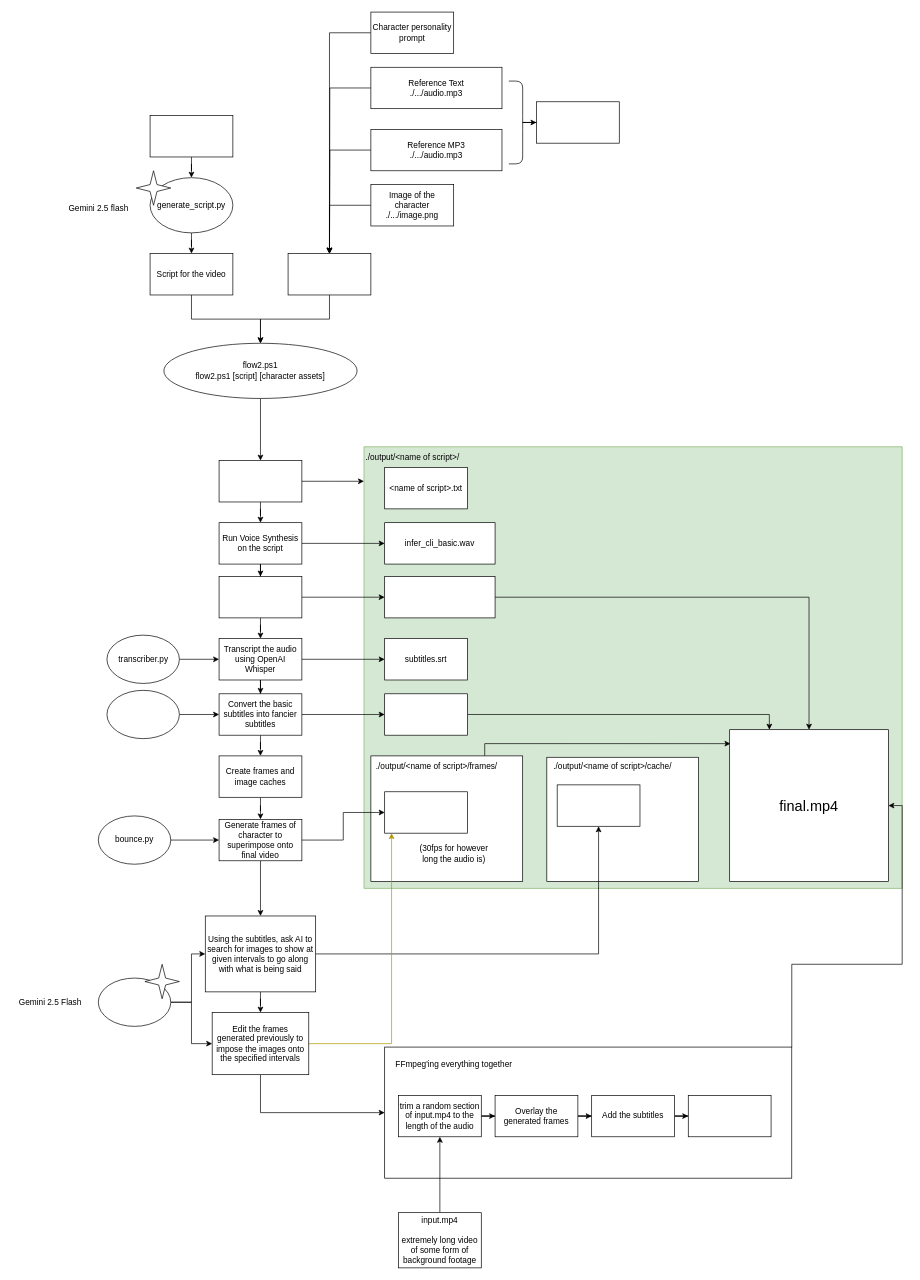
This 920x1280 diagram has some shape labels left out. Each missing label, with the box of its shape:
Add the audio: (688, 1095, 771, 1137)
Character Assets ./assets/<character>/: (287, 253, 371, 295)
Enhance the audio produced: (218, 576, 302, 618)
frame_####.png: (384, 791, 467, 833)
image_search2.py: (98, 977, 171, 1026)
infer_cli_basic_cleaned.wav: (384, 576, 495, 618)
Initialize output directory copy the script over: (218, 460, 302, 502)
Notes page: (149, 115, 233, 157)
subtitle.py: (106, 690, 179, 739)
subtitles.ass: (384, 693, 467, 735)
Various images related to the script: (556, 784, 640, 826)
Voice Synthesis Assets: (536, 101, 619, 143)
